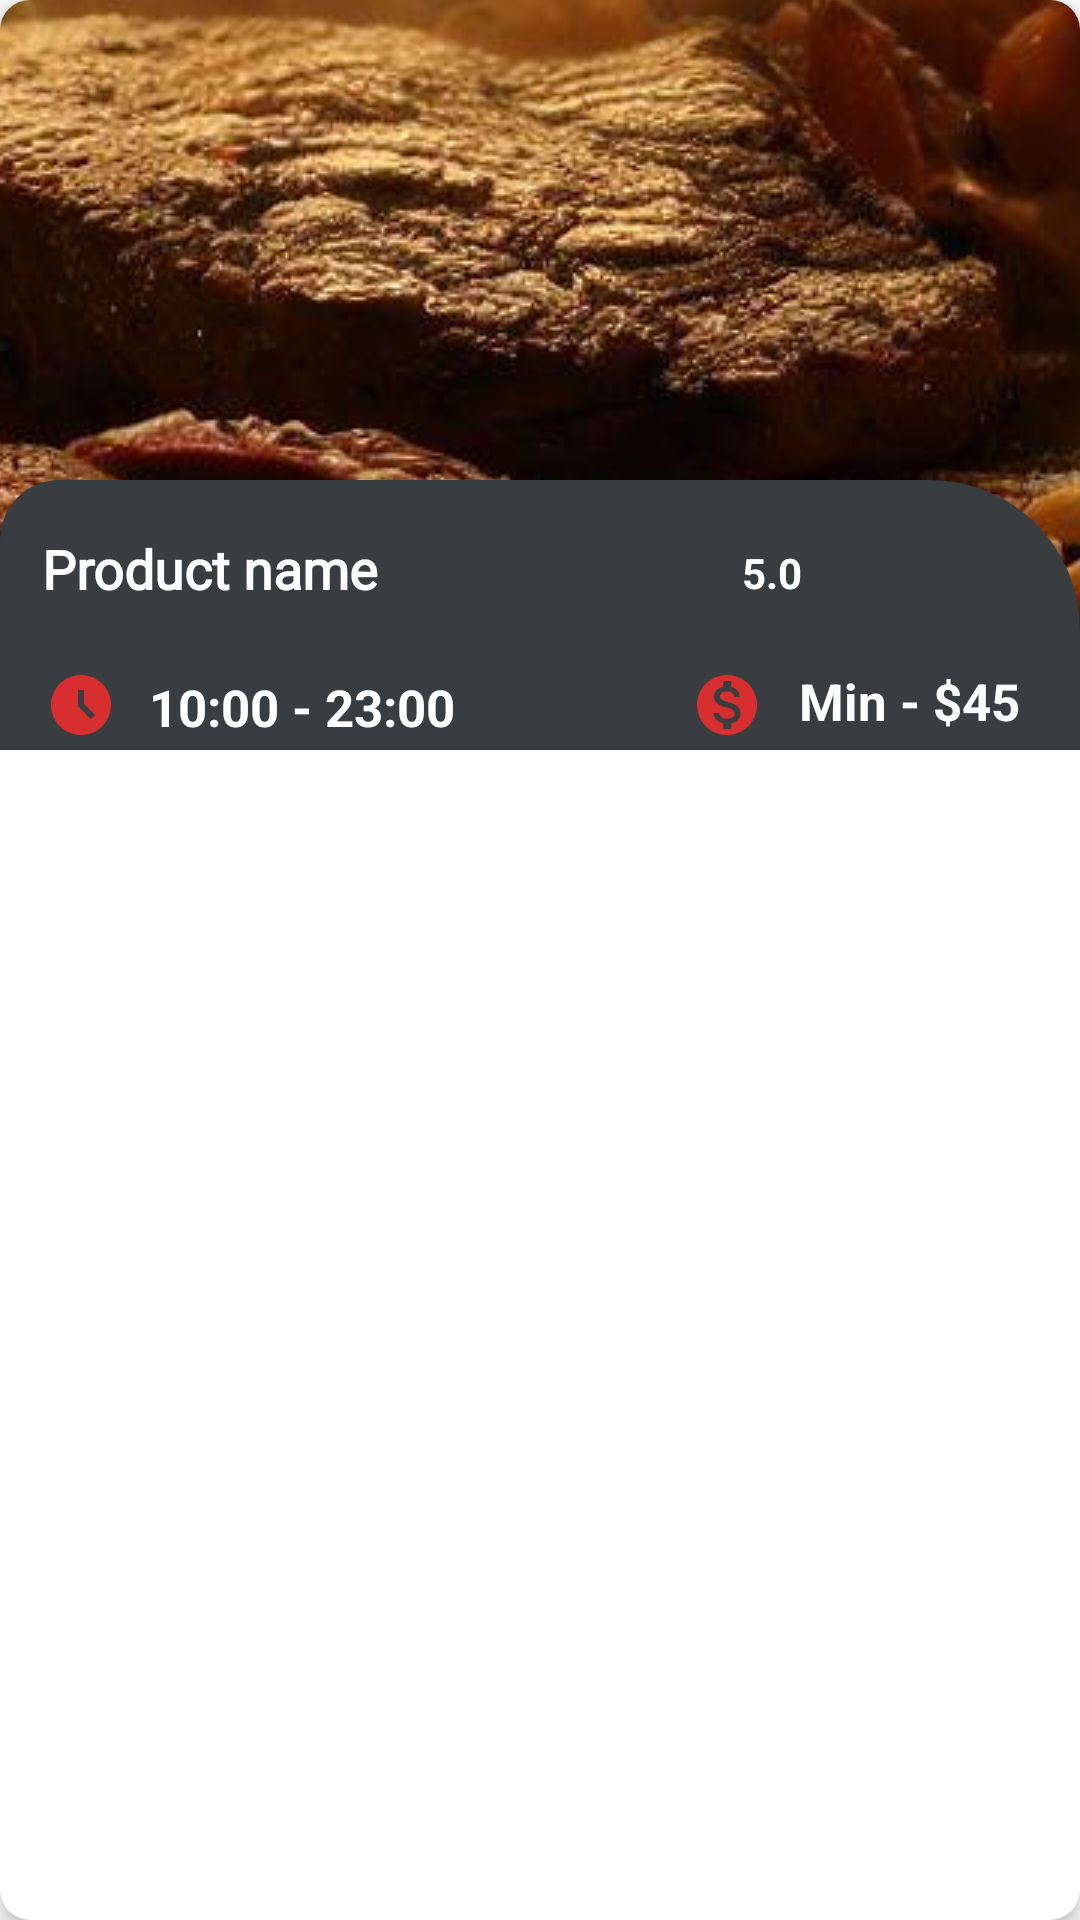

Where icons sit on this 1080 x 1920 app screen, as (x1, y1, x2, y2):
access time: (51, 675, 111, 735)
monetization on: (697, 675, 757, 735)
